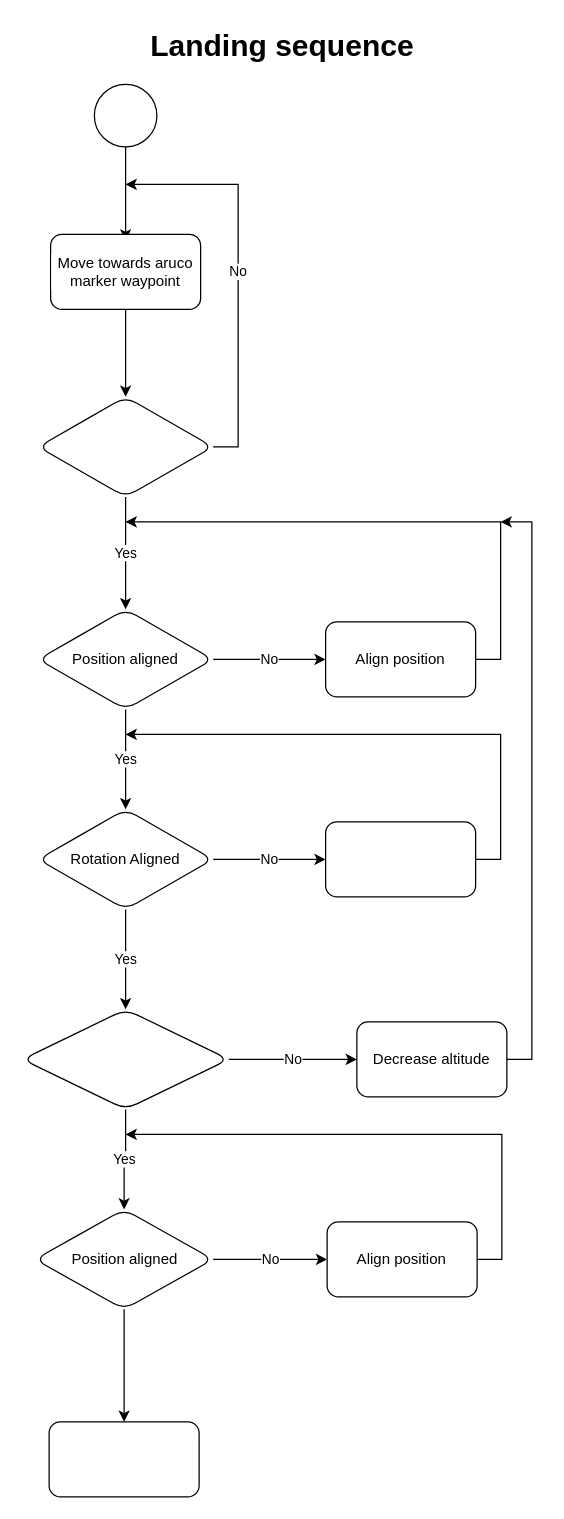
Some shapes in this 564 by 1519 pixel diagram are drawn without their labels. The shapes that lost their labels are listed below. From the top down, each one's box as (x1, y1, x2, y2) in pixels, then its label:
(37, 396, 213, 497): Aruco marker visible?
(324, 821, 476, 897): Align rotation
(21, 1008, 229, 1109): Vertical distance to marker > 0.1m?
(48, 1421, 199, 1497): Initiate autolanding
